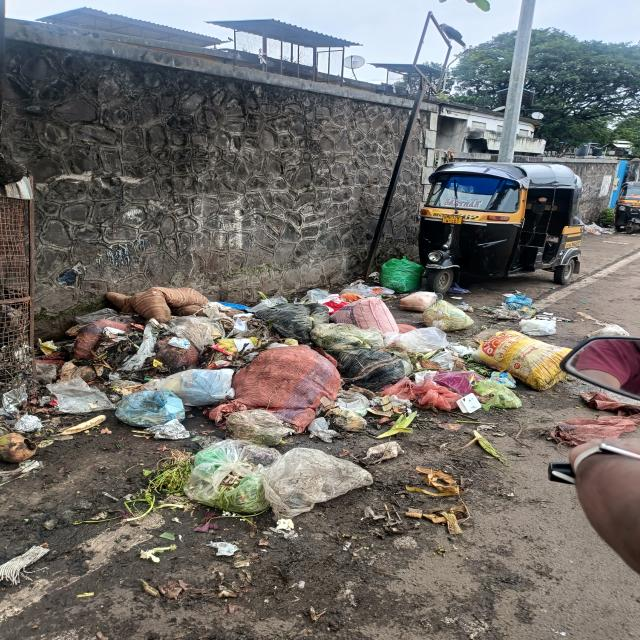garbage: (66, 279, 569, 496)
